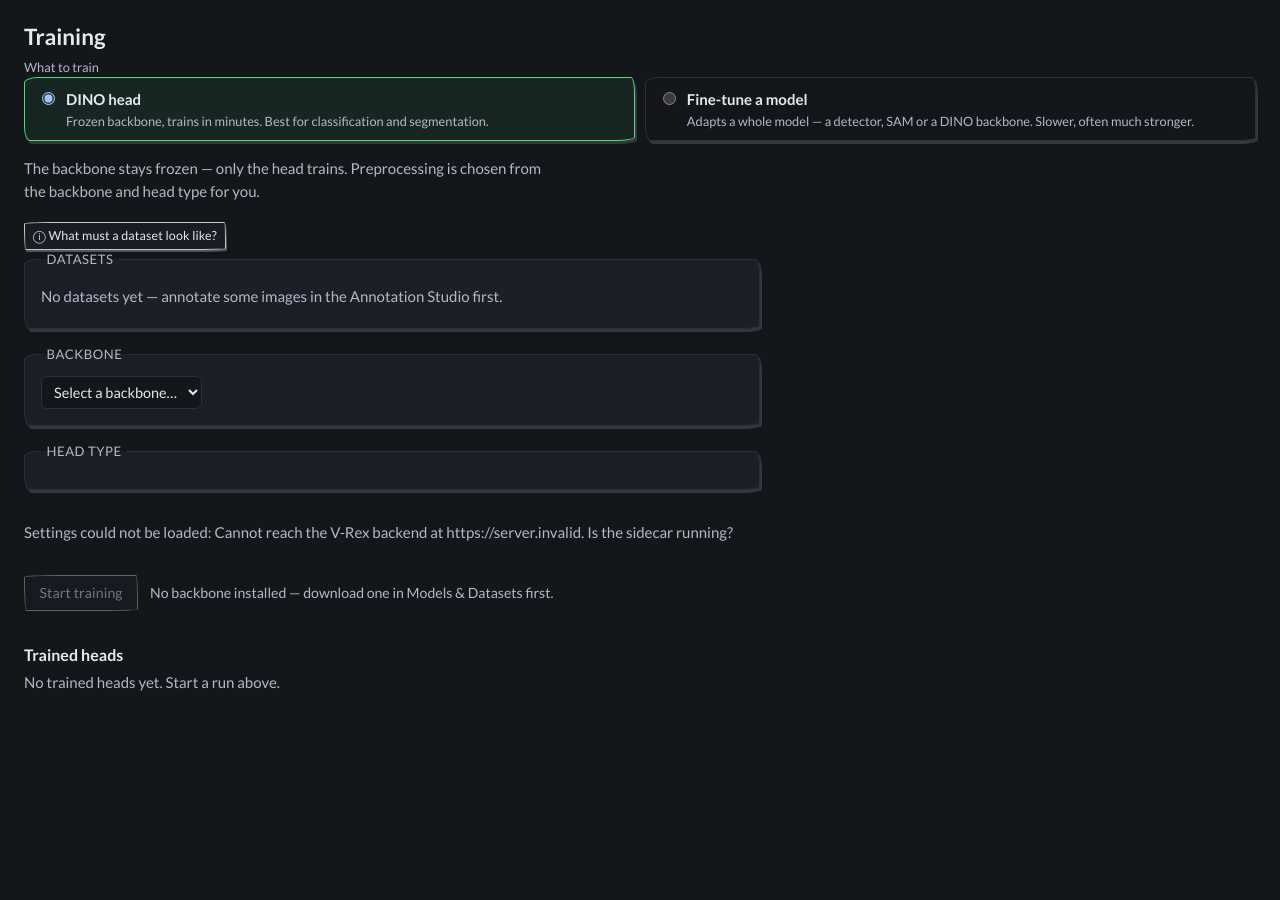
it: which one is showing › goes back
Click the radio button labelled "Fine-tune a model": [669, 98] box x1=663 y1=92 x2=676 y2=104
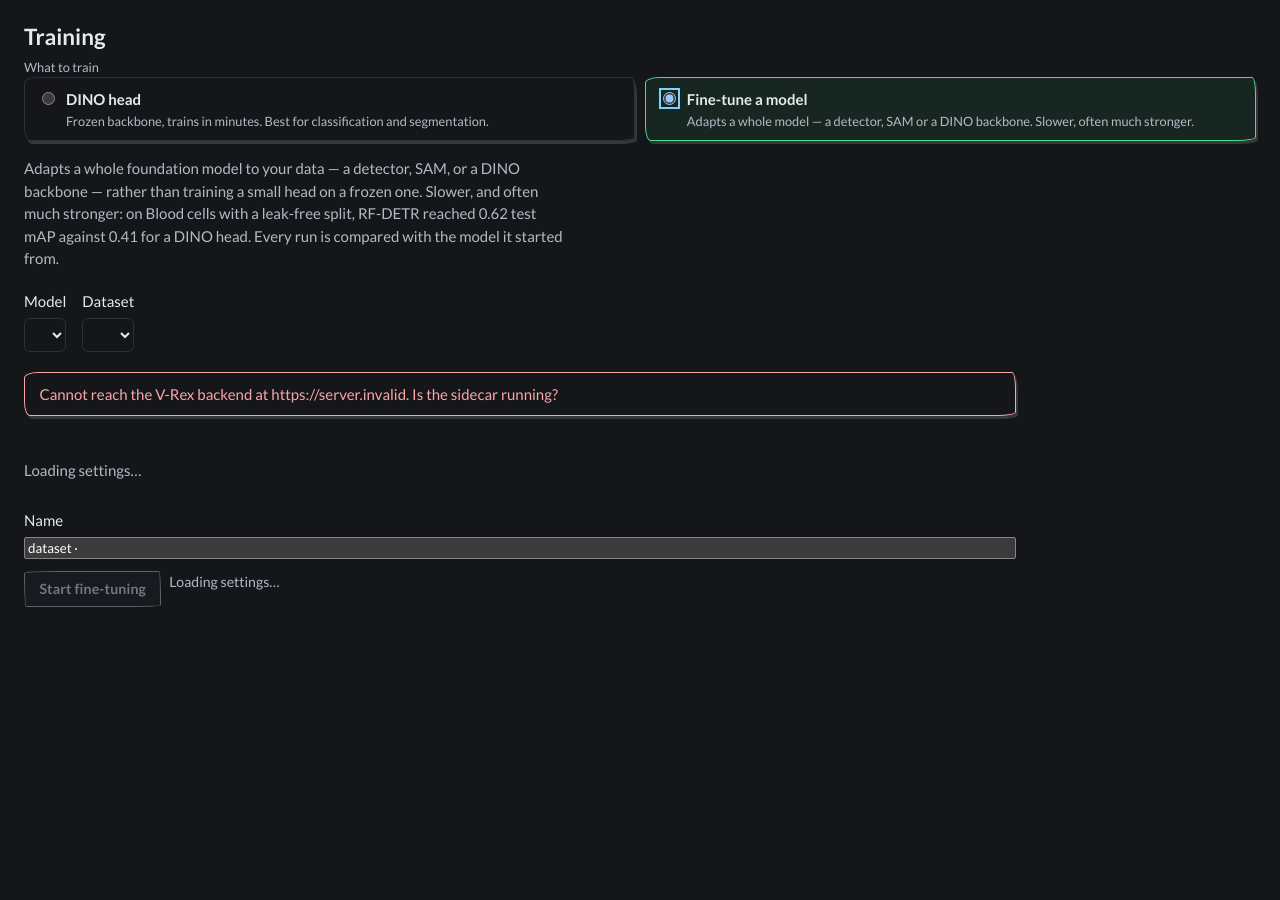
Click the radio button labelled "DINO head": [48, 98] box x1=42 y1=92 x2=55 y2=104
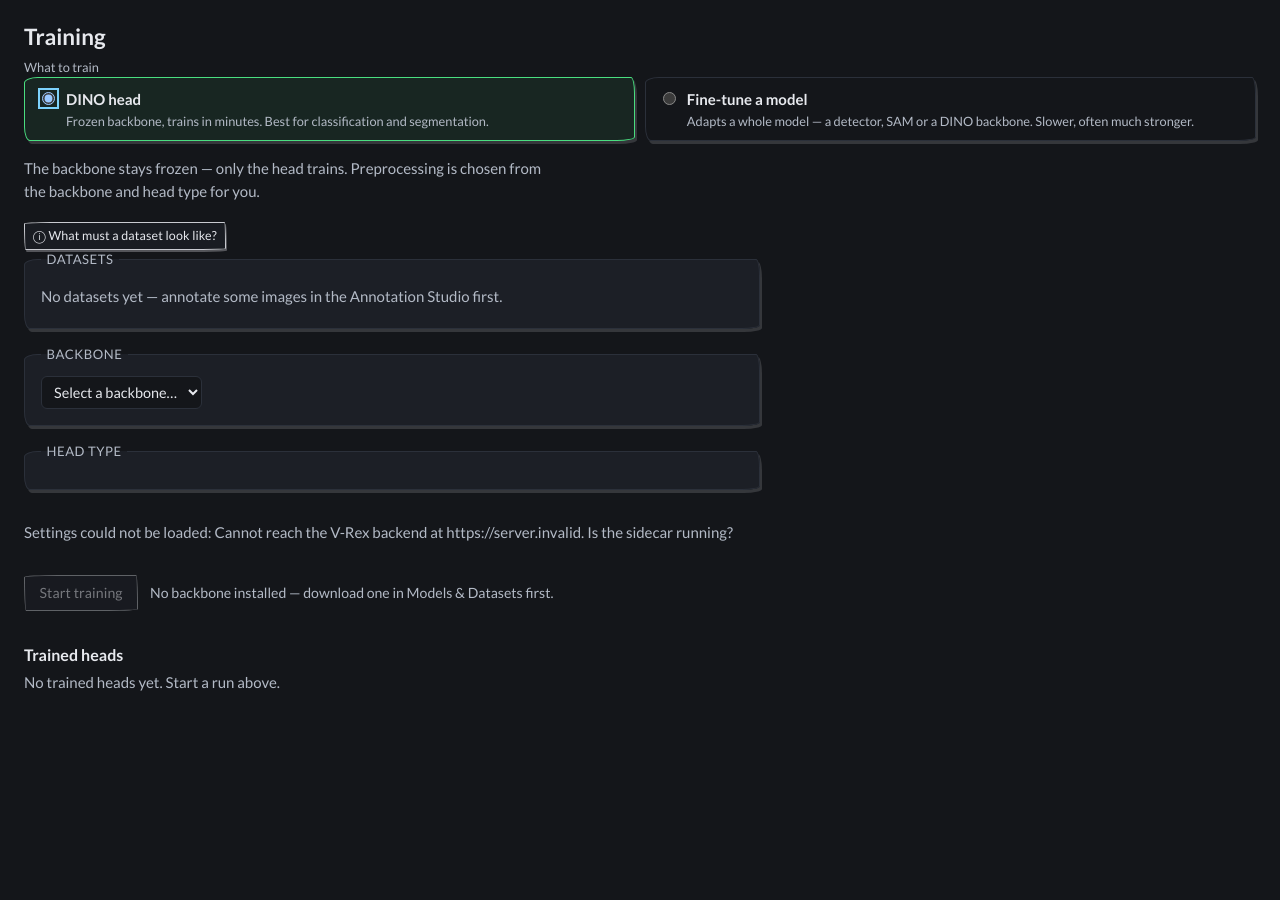
Result: the text "The backbone stays frozen" is shown at x1=24 y1=159 x2=541 y2=200
